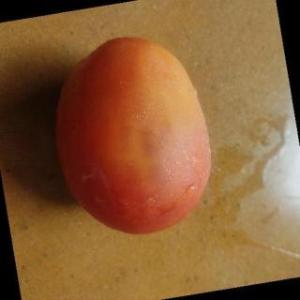tomato: (46, 23, 222, 246)
